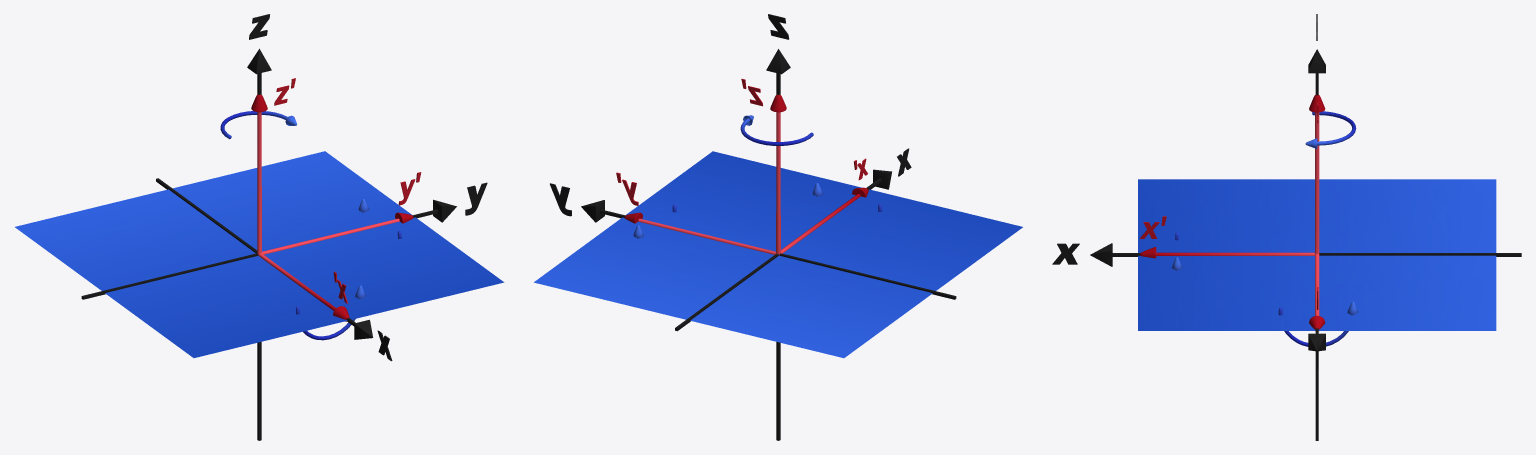
3 renders of one model, left to right at view 1: azimuth 30°, elevation 25°; view 2: azimuth 150°, elevation 25°; view 3: azimuth 270°, elevation 25°, orthographic.
Parts seen in each view (by area): view 1: Plane, Axis, AxisMini; view 2: Plane, Axis, AxisMini, RotationArrow_yaw; view 3: Plane, Axis, AxisMini, RotationArrow_yaw.
Boxes of the visible parts, box(x1,y1,x2,y2) form: Plane: box(15, 151, 504, 357); Axis: box(81, 14, 487, 440); AxisMini: box(251, 94, 413, 321); Plane: box(534, 151, 1022, 358); Axis: box(550, 14, 956, 440); AxisMini: box(624, 94, 868, 255); RotationArrow_yaw: box(740, 115, 813, 145); Plane: box(1138, 179, 1496, 330); Axis: box(1052, 14, 1521, 440); AxisMini: box(1140, 95, 1325, 331); RotationArrow_yaw: box(1305, 111, 1356, 148).
Size of what is drawn, in the model's own units: 229 by 228 by 229.
